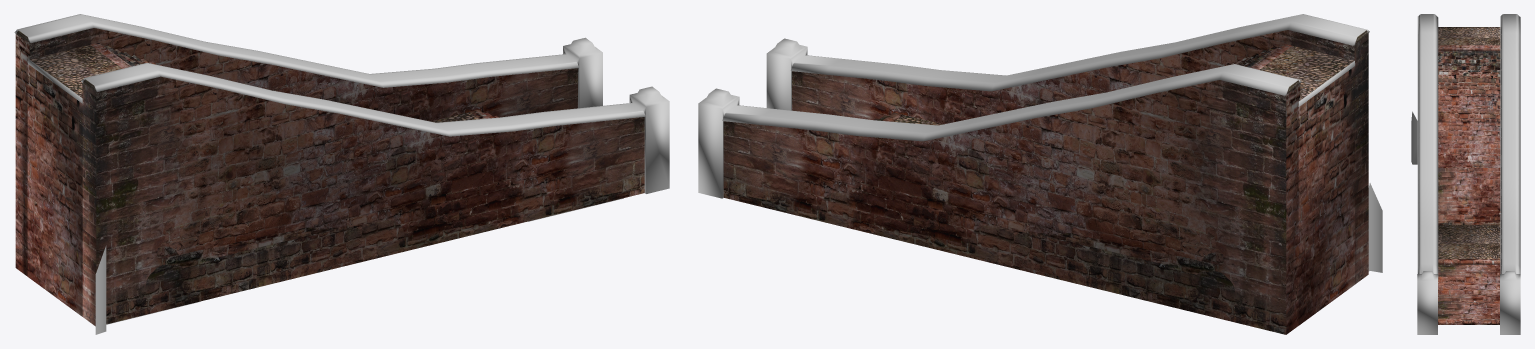
Rendered from FortressSteps.fbx.
3 renders of one model, left to right at view 1: azimuth 30°, elevation 25°; view 2: azimuth 150°, elevation 25°; view 3: azimuth 270°, elevation 25°, orthographic. The views are drawn at different scales.
Visible parts, largest first — view 1: KeepBaseSteps; view 2: KeepBaseSteps; view 3: KeepBaseSteps.
Boxes of the visible parts, x1,y1,x2,y2 form: KeepBaseSteps: (14,14,669,334); KeepBaseSteps: (698,14,1382,334); KeepBaseSteps: (1411,14,1520,334).
Bounding box in the file's own units: 719 × 287 × 191.
